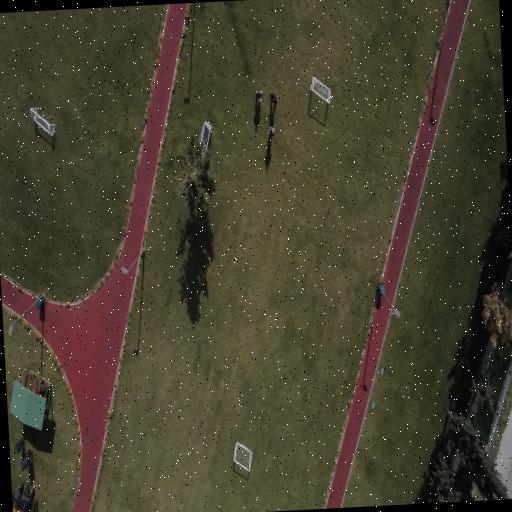person: (24, 484, 34, 508), (20, 448, 30, 470), (13, 483, 23, 503), (14, 435, 24, 453), (36, 378, 45, 394), (255, 90, 262, 101), (270, 93, 276, 104), (267, 125, 273, 134)
